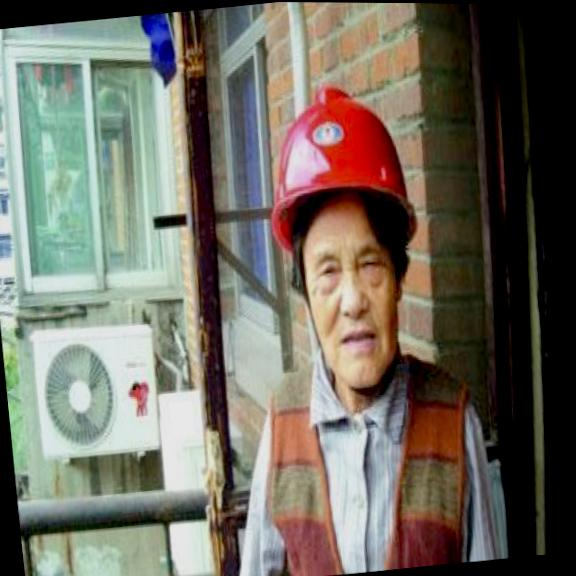no_safety_vest: (258, 340, 512, 576)
